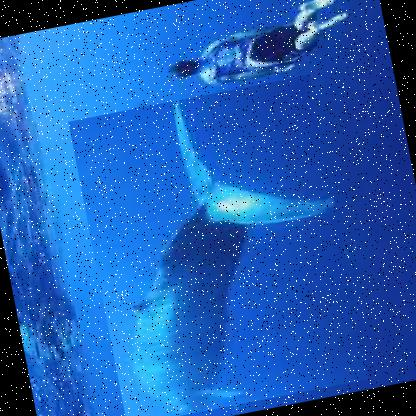blue_whale: (67, 72, 370, 415)
